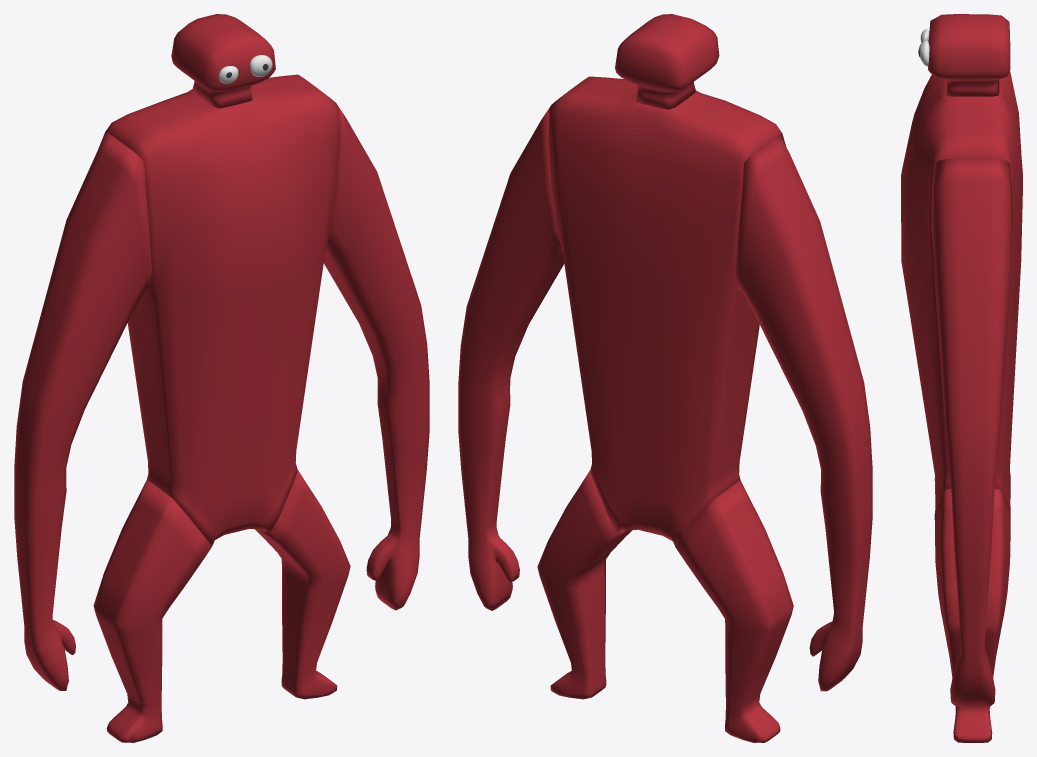
The picture shows the model from 3 angles, left to right: view 1: azimuth 30°, elevation 25°; view 2: azimuth 150°, elevation 25°; view 3: azimuth 270°, elevation 25°; orthographic projection. The views are drawn at different scales.
Parts seen in each view (by area): view 1: Cube.001, Cube.002, Cube.004, Cube.005, Cube.007, Cube.006; view 2: Cube.001, Cube.002, Cube.004, Cube.005, Cube.007, Cube.006; view 3: Cube.004, Cube.001, Cube.007, Cube.006.
Part boxes in pixels (x1,y1,x2,y2): Cube.001: (105, 74, 340, 546); Cube.002: (14, 132, 151, 690); Cube.004: (323, 105, 429, 610); Cube.005: (93, 480, 211, 742); Cube.007: (255, 469, 350, 699); Cube.006: (171, 14, 275, 108); Cube.001: (548, 76, 781, 546); Cube.002: (735, 133, 872, 691); Cube.004: (458, 106, 564, 610); Cube.005: (675, 480, 793, 742); Cube.007: (537, 469, 632, 699); Cube.006: (615, 14, 719, 109); Cube.004: (931, 158, 1012, 706); Cube.001: (901, 71, 1022, 513); Cube.007: (934, 489, 1010, 742); Cube.006: (918, 14, 1010, 96).
Size of the model in its own units: 826 by 1350 by 222.
